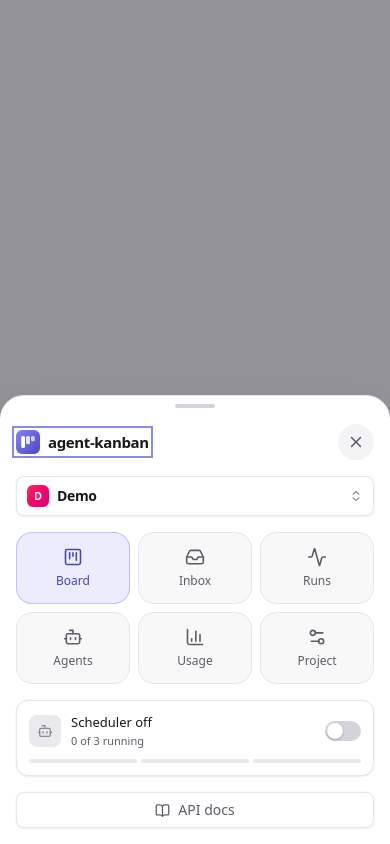
NavDrawer › choosing another project navigates there
The image size is (390, 844).
Click the button "D Demo": (77, 496) [16, 476, 374, 516]
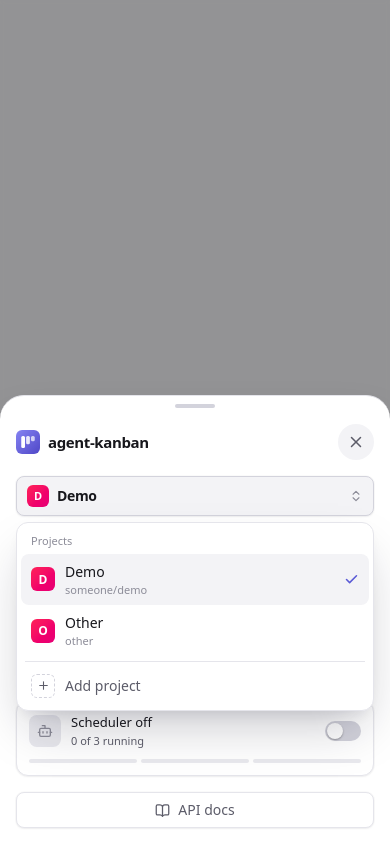
Click the menu item "O Other other": (84, 623) [21, 605, 369, 657]
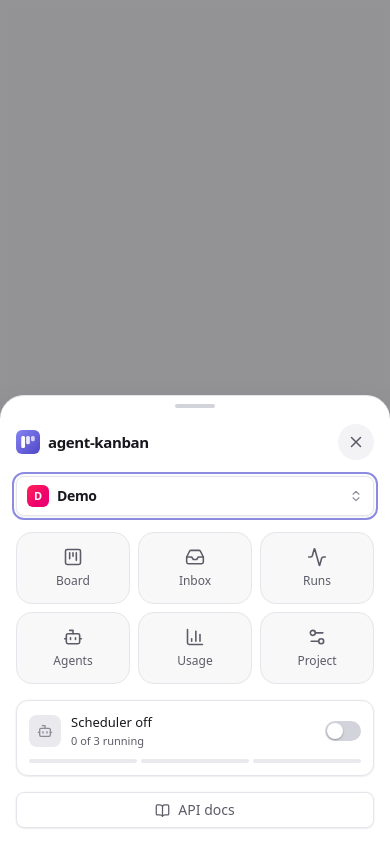
Now the menu is gone
